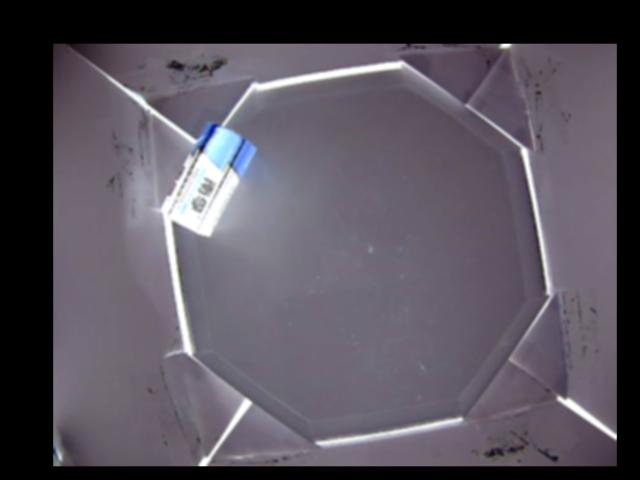Battery: (157, 125, 257, 233)
